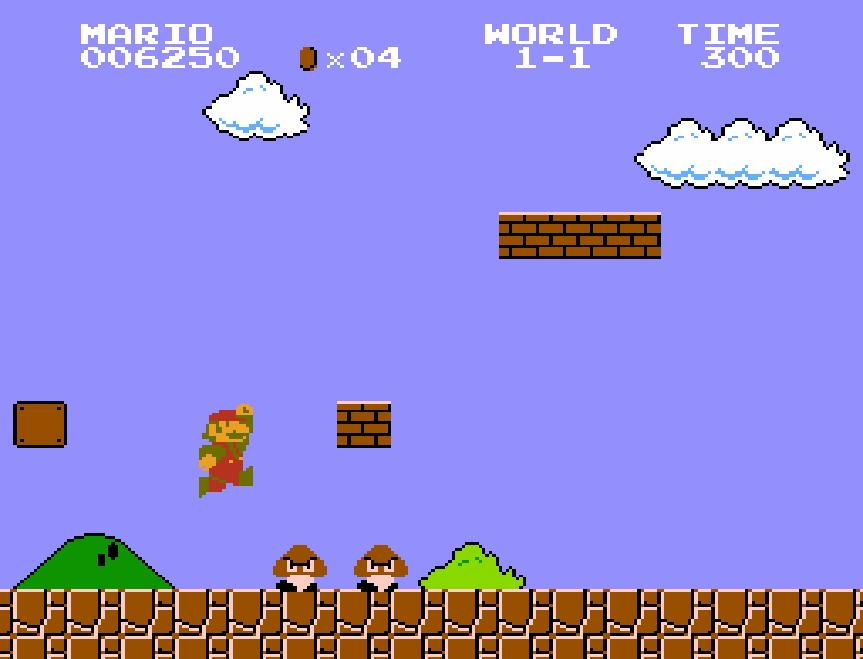big_mario: (196, 402, 254, 500)
